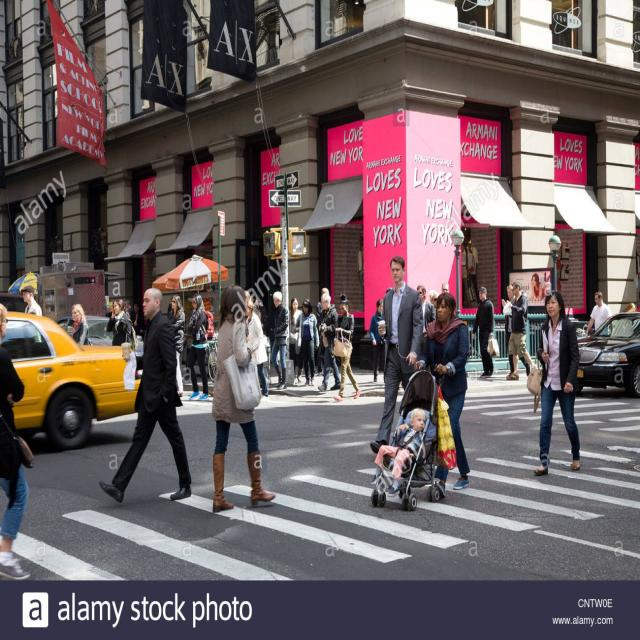body: (105, 285, 553, 428), (97, 286, 193, 505), (209, 282, 277, 514), (412, 291, 473, 499), (369, 255, 424, 455), (526, 290, 582, 478), (0, 298, 36, 584), (423, 230, 558, 286), (370, 406, 428, 498), (498, 283, 532, 381), (332, 292, 362, 402), (505, 281, 538, 381), (185, 293, 215, 402), (470, 285, 501, 378), (244, 299, 270, 401), (316, 292, 342, 392), (291, 298, 320, 387), (268, 290, 290, 391), (314, 286, 335, 377), (168, 294, 186, 397), (416, 284, 436, 374), (106, 297, 138, 353), (368, 297, 386, 384), (584, 291, 614, 338), (20, 284, 42, 344), (288, 296, 304, 373), (71, 303, 89, 346), (622, 299, 638, 316)
